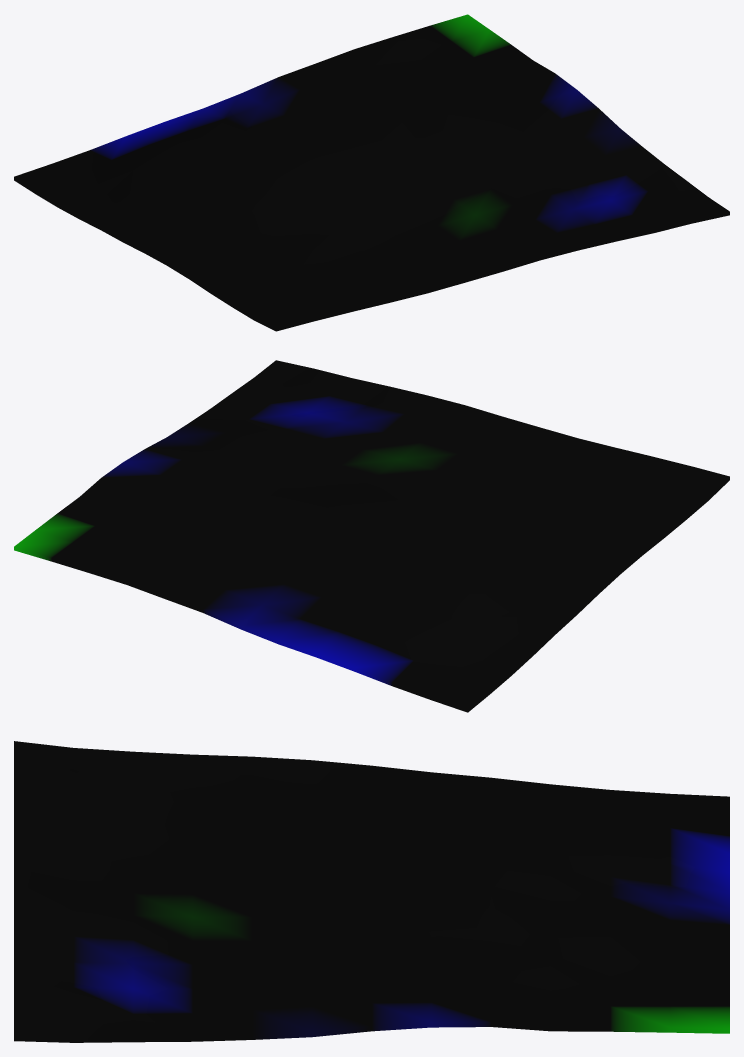
Rendered from coast_9_0.glb.
The picture shows the model from 3 angles, top to bottom: view 1: azimuth 30°, elevation 25°; view 2: azimuth 150°, elevation 25°; view 3: azimuth 270°, elevation 25°; orthographic projection. The views are drawn at different scales.
Parts seen in each view (by area): view 1: terrain; view 2: terrain; view 3: terrain.
Boxes of the visible parts, <box> form: terrain: <box>14,14,729,331</box>; terrain: <box>14,360,729,712</box>; terrain: <box>14,741,729,1042</box>.
Bounding box in the file's own units: 192 × 24.36 × 192.
